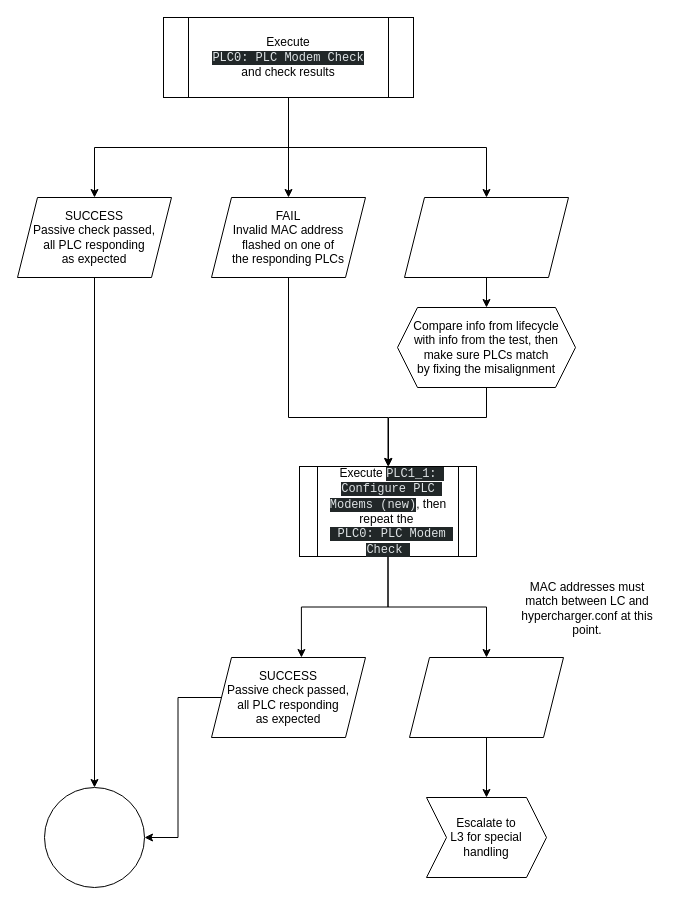
The diagram is 685 pixels wide and 905 high, and some of its shapes have lost their labels. The shapes that lost their labels are listed below. From the top down, each one's centre as x and y in pixels, then its label:
At point 486,237: "FAIL PLC MAC address different from the one set in hypercharger.conf".
At point 486,697: "FAIL PLC still reports invalid MAC address".
At point 94,837: "Observe unit to ensure KPI are OK".
